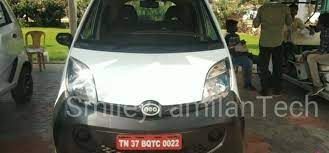Nano: (53, 1, 246, 153)
